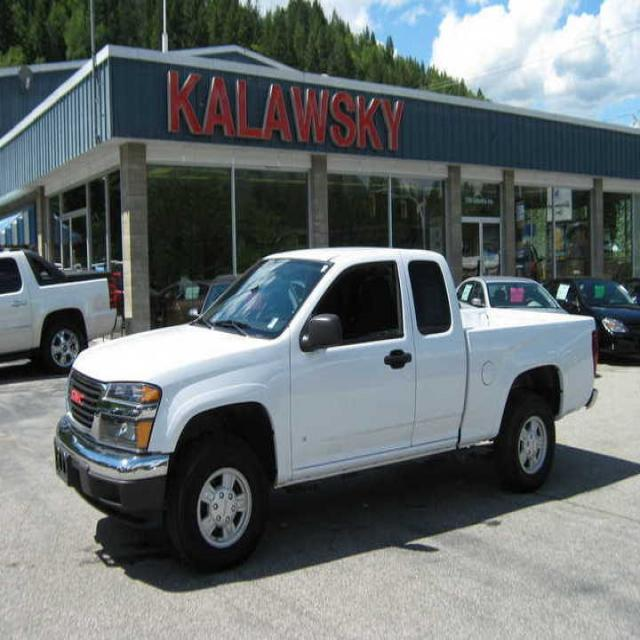car: (54, 245, 599, 571), (0, 250, 123, 373), (541, 275, 639, 364), (458, 277, 566, 312)
